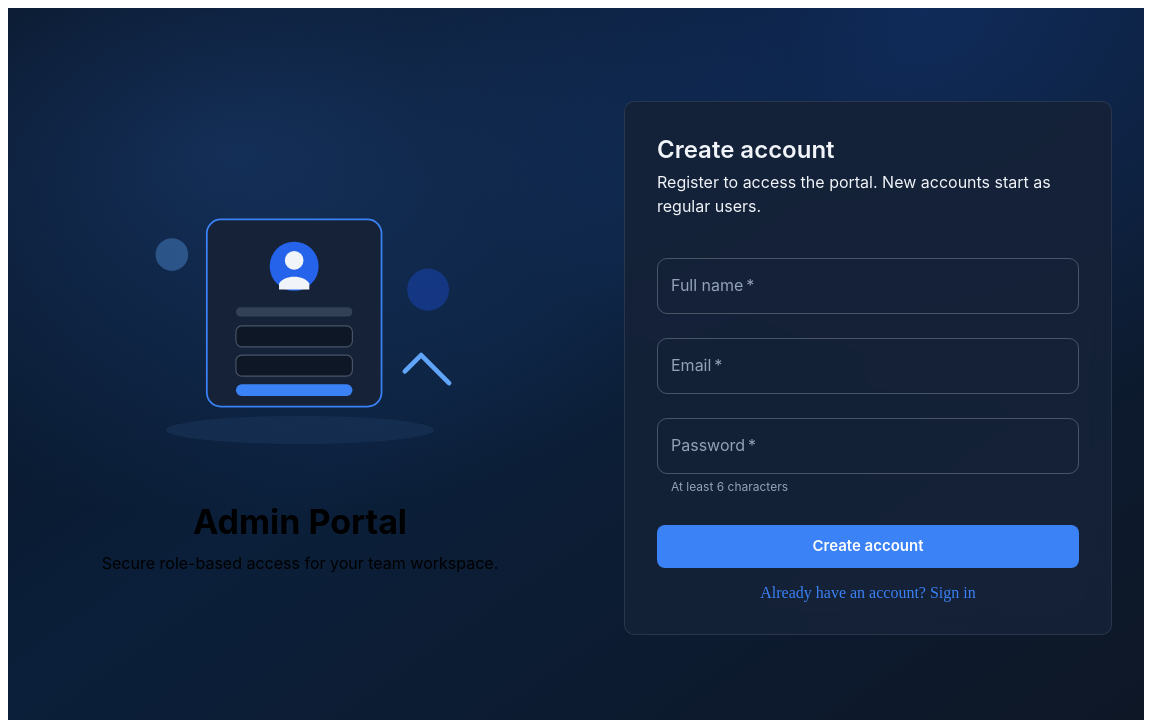
Scenario: RegisterPage › shows a cleaned Firebase error
The image size is (1152, 720).
Type "Ada Lovelace" into the field labelled "Full name *". click: (868, 286)
box: [657, 258, 1079, 314]
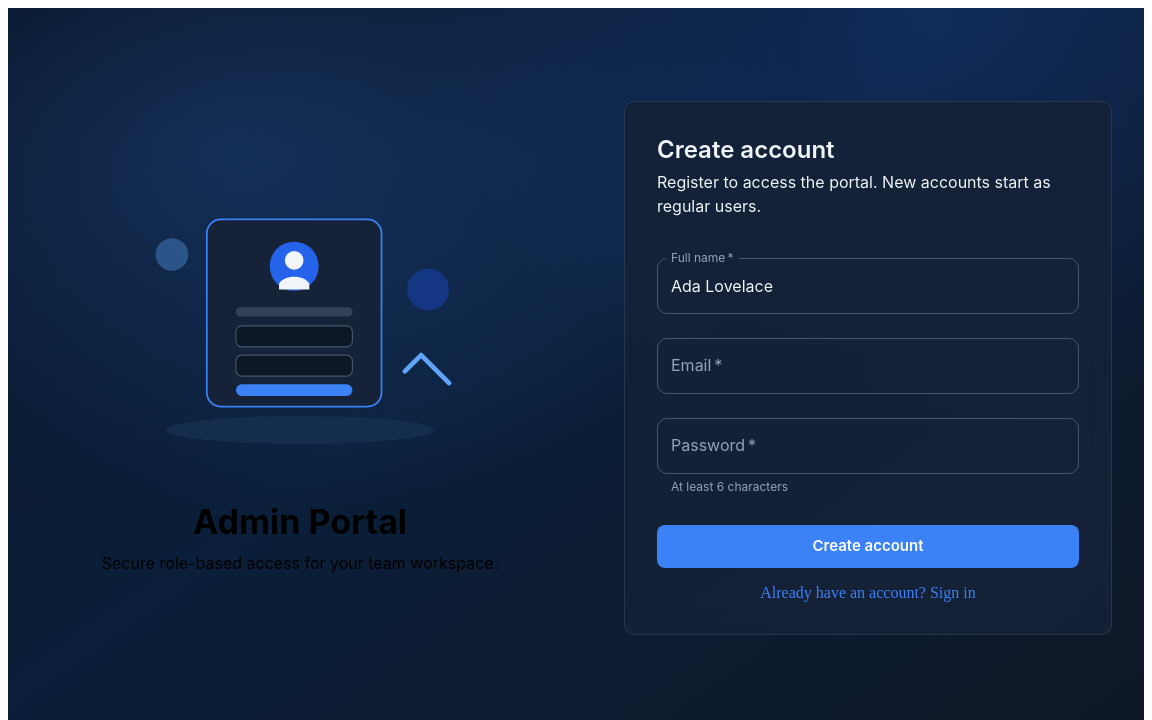
Type "ada@example.com" into the field labelled "Email *". click: (868, 366)
box: [657, 338, 1079, 394]
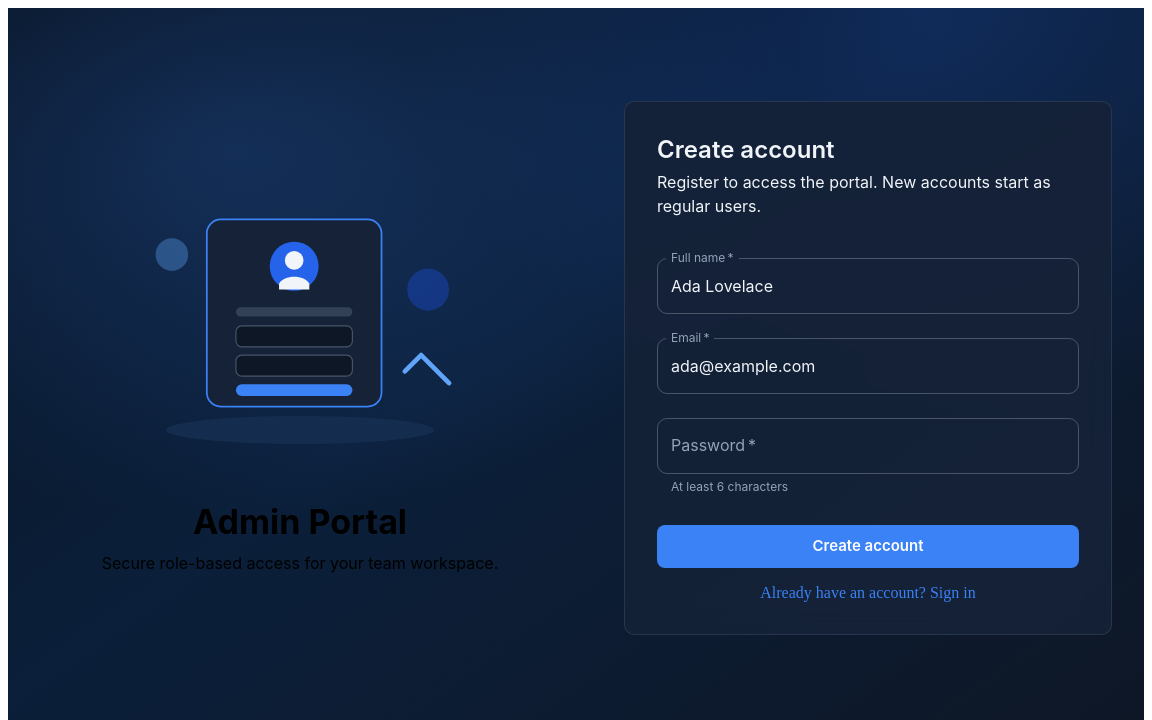
Type "secret" into the password field labelled "Password *". click: (868, 446)
box: [657, 418, 1079, 474]
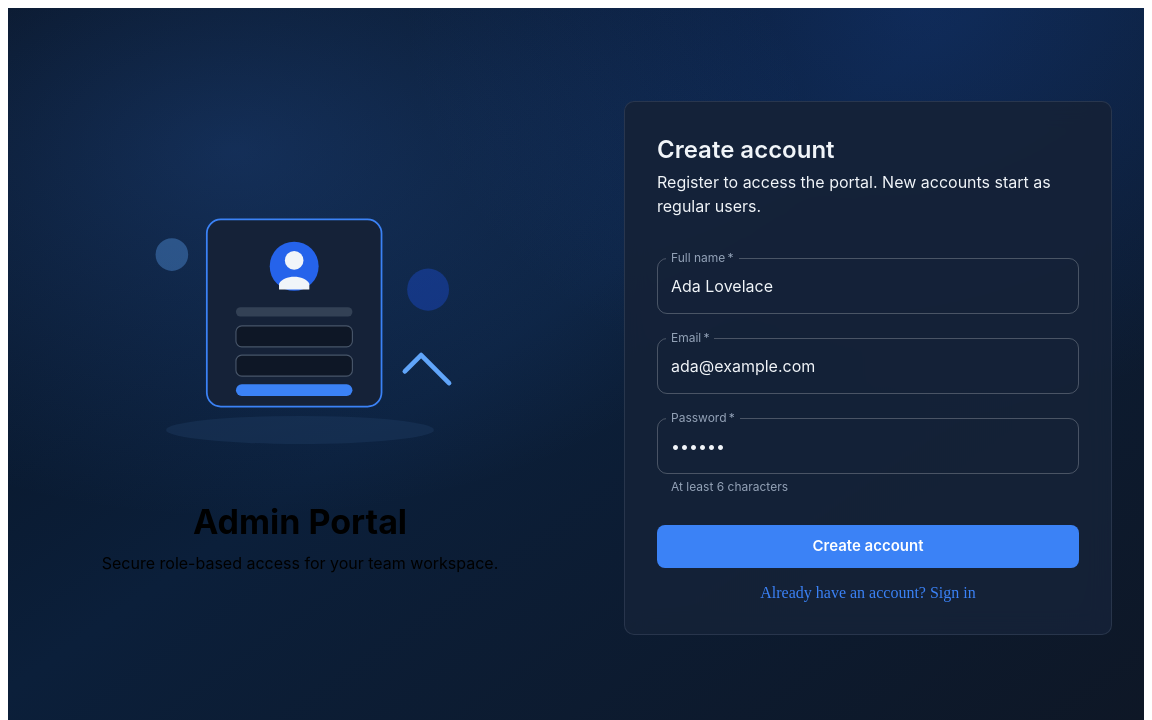
Click the button "Create account". click: (868, 546)
box: [657, 525, 1079, 568]
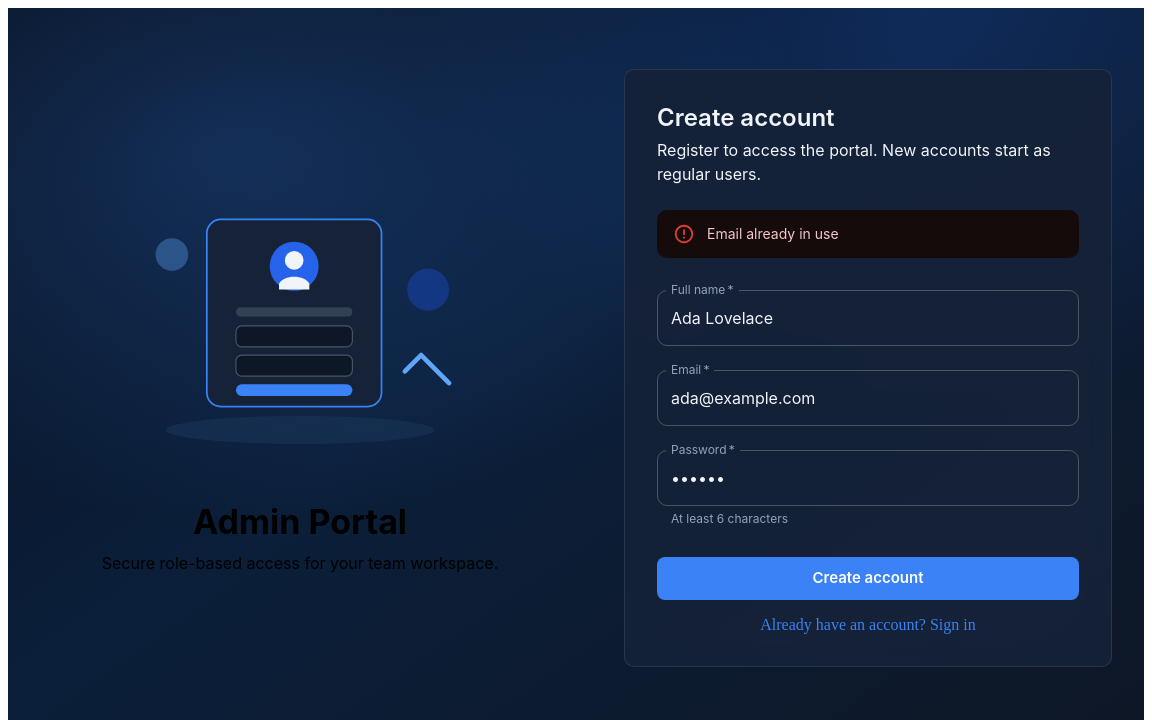
Expected: the text "Email already in use" is shown, [707, 225, 839, 242]
